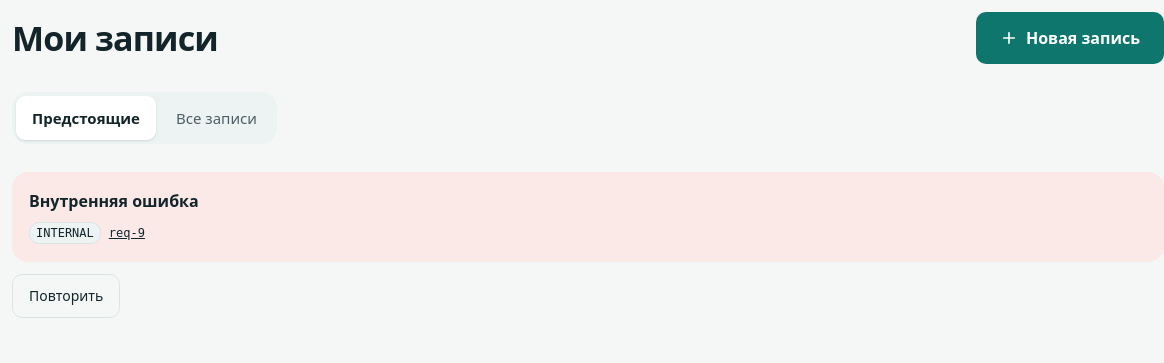
Scenario: AppointmentList › should show a banner with the request id and retry the read when the service fails
Check: the message with test id "problem-banner" shows "req-9", box [109,221,145,245]
Click the button "Повторить": [66, 296] box [12,274,120,318]
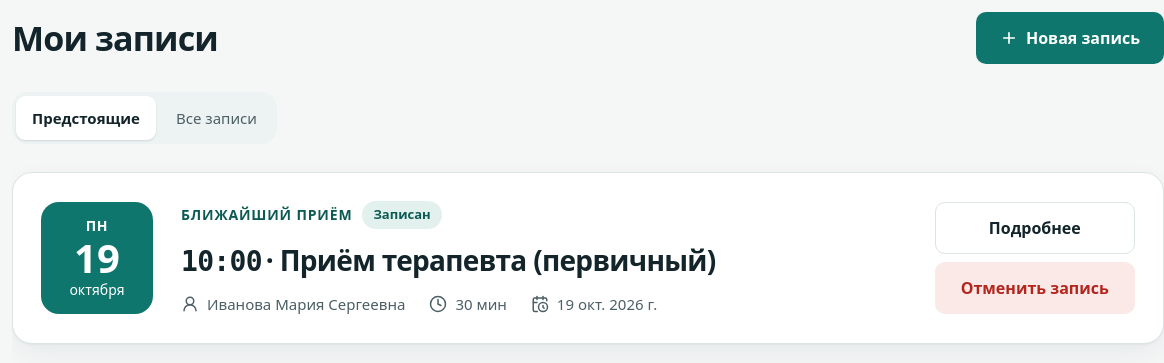
Check: the element with test id "next-appointment" is shown, box [12,172,1163,344]
